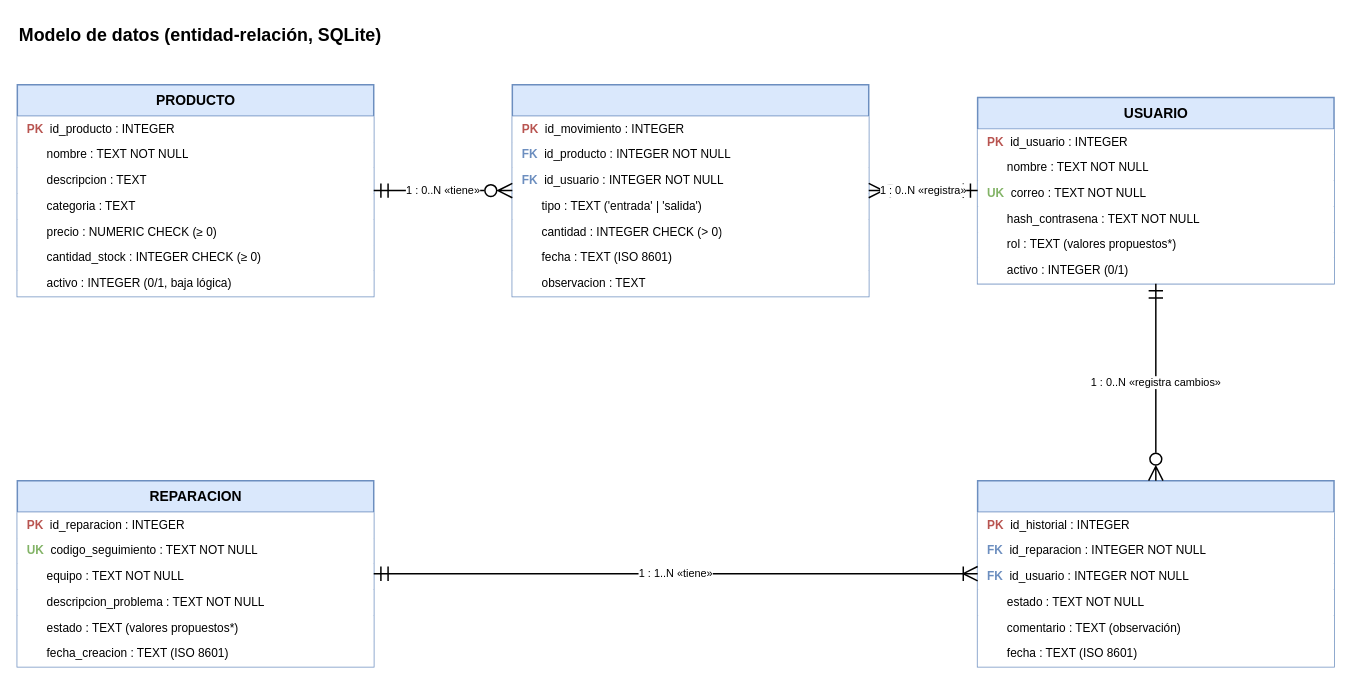
The diagram is 1352 pixels wide and 684 high, and some of its shapes have lost their labels. The shapes that lost their labels are listed below. From the top down, each one's box as (x1, y1, x2, y2) in pixels, then its label:
(511, 83, 869, 297): MOVIMIENTO_INVENTARIO
(976, 479, 1334, 667): HISTORIAL_REPARACION
